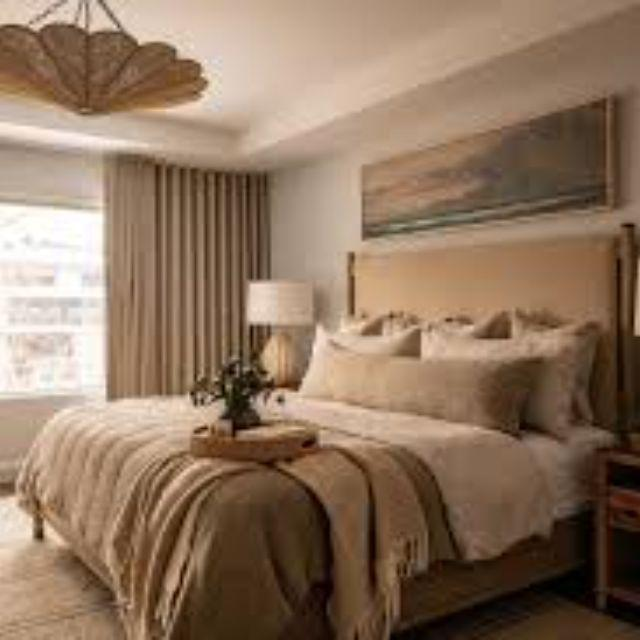bed: (30, 391, 606, 640)
lamp: (241, 273, 319, 391)
pillow: (424, 303, 605, 444), (309, 334, 527, 440)
window: (0, 127, 108, 406)
